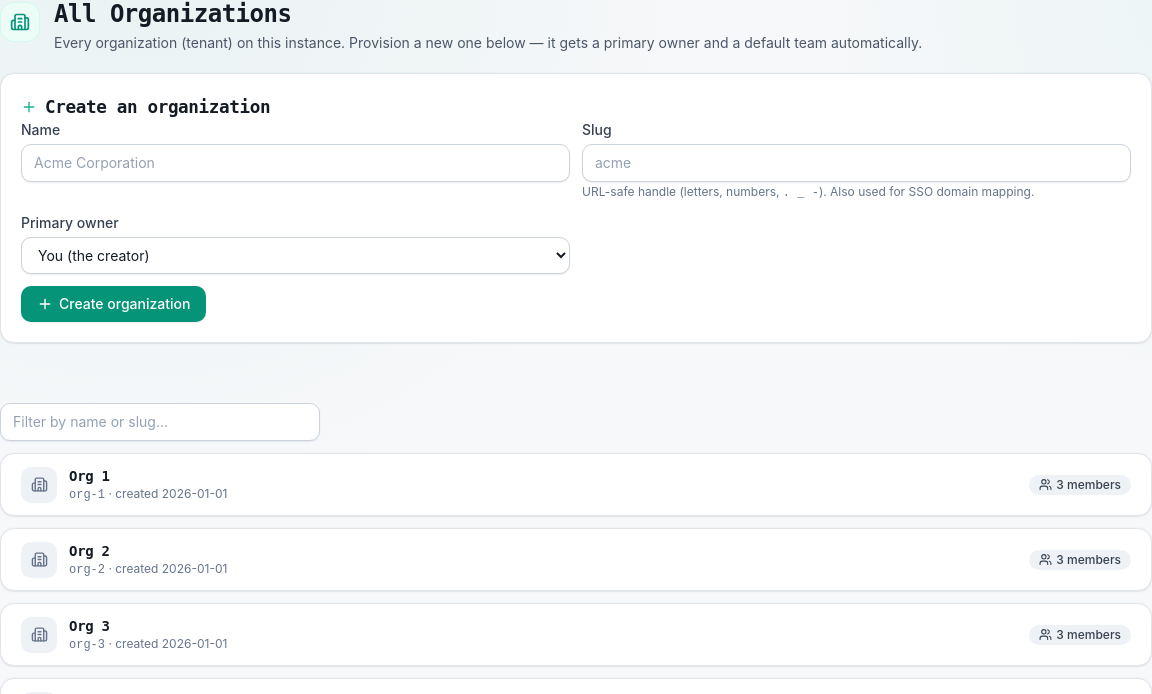
AllOrganizationsPage › filters the list by name or slug once there are more than 5 organizations
Expected: the heading "Org 1" is shown, [69, 468, 110, 484]
Type "org-3" into the field named "Filter organizations" at {"x": 160, "y": 422}, box [0, 403, 320, 441]
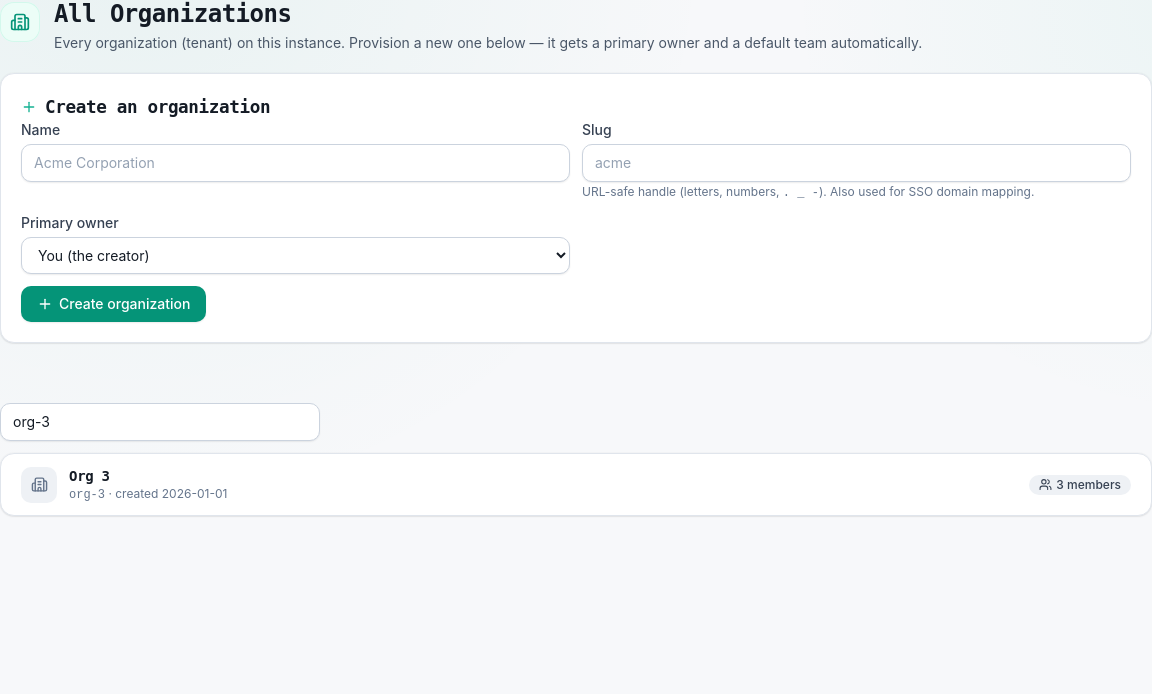
Expected: the heading "Org 3" is shown, [69, 468, 110, 484]
Now the heading "Org 1" is gone
